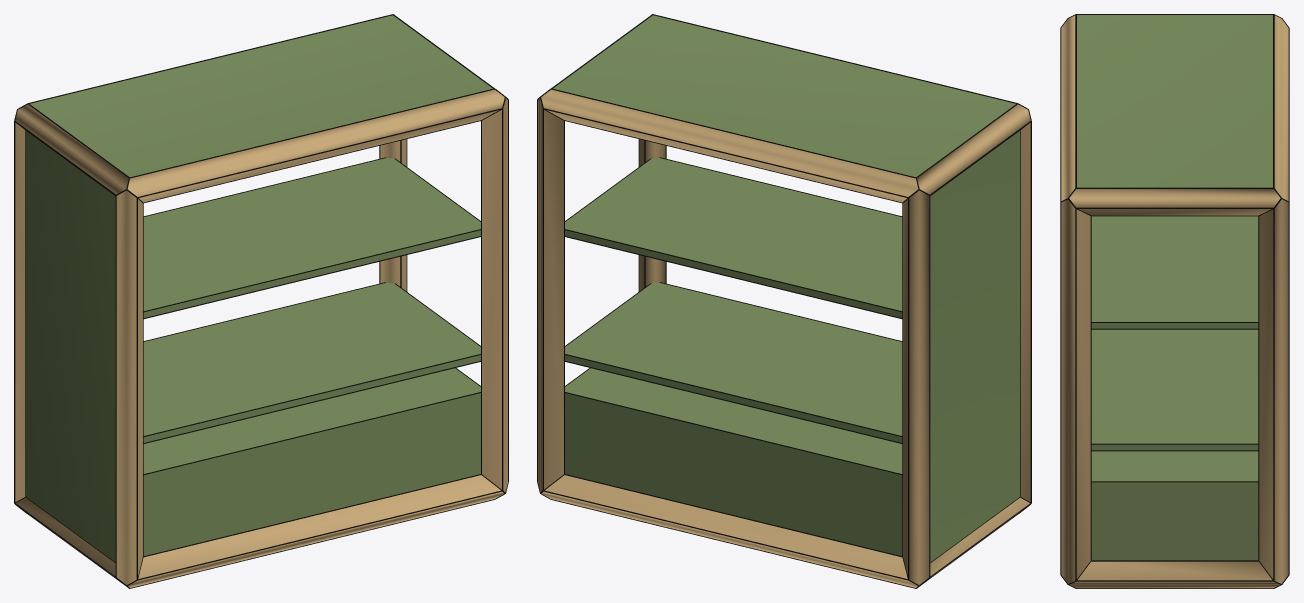
The model's file is servante-grande.glb.
3 renders of one model, left to right at view 1: azimuth 30°, elevation 25°; view 2: azimuth 150°, elevation 25°; view 3: azimuth 270°, elevation 25°, orthographic. The views are drawn at different scales.
Visible parts, largest first — view 1: mod-drawer-0, panneau-dessus_exterieur, panneau-joue1, mod-shelf-0, mod-shelf-1, arete-X2, arete-Z0, arete-X0, arete-Z1, arete-Z2, arete-Y2, arete-wire-X0 (+11 smaller); view 2: mod-drawer-0, panneau-dessus_exterieur, panneau-joue1, mod-shelf-0, mod-shelf-1, arete-X3, arete-Z2, arete-X1, arete-Z3, arete-Z0, arete-Y2, arete-wire-X1 (+11 smaller); view 3: panneau-dessus_exterieur, mod-shelf-0, mod-shelf-1, mod-drawer-0, arete-Z1, arete-Z3, arete-Y1, arete-Y3, arete-X2, arete-X3, arete-wire-Z1, arete-wire-Z3 (+8 smaller).
Boxes of the visible parts, x1=… form: mod-drawer-0: x1=143, y1=368, x2=480, y2=555; panneau-dessus_exterieur: x1=30, y1=15, x2=492, y2=177; panneau-joue1: x1=26, y1=131, x2=115, y2=562; mod-shelf-0: x1=143, y1=282, x2=480, y2=442; mod-shelf-1: x1=143, y1=158, x2=480, y2=317; arete-X2: x1=127, y1=89, x2=504, y2=202; arete-Z0: x1=116, y1=190, x2=142, y2=584; arete-X0: x1=128, y1=475, x2=504, y2=587; arete-Z1: x1=482, y1=98, x2=507, y2=492; arete-Z2: x1=15, y1=122, x2=25, y2=501; arete-Y2: x1=15, y1=104, x2=128, y2=194; arete-wire-X0: x1=126, y1=474, x2=505, y2=588; mod-drawer-0: x1=565, y1=368, x2=902, y2=555; panneau-dessus_exterieur: x1=553, y1=15, x2=1015, y2=177; panneau-joue1: x1=930, y1=131, x2=1019, y2=562; mod-shelf-0: x1=565, y1=282, x2=902, y2=442; mod-shelf-1: x1=565, y1=158, x2=902, y2=317; arete-X3: x1=541, y1=89, x2=918, y2=202; arete-Z2: x1=903, y1=190, x2=929, y2=584; arete-X1: x1=541, y1=475, x2=917, y2=587; arete-Z3: x1=538, y1=98, x2=563, y2=492; arete-Z0: x1=1020, y1=122, x2=1030, y2=501; arete-Y2: x1=917, y1=104, x2=1030, y2=194; arete-wire-X1: x1=540, y1=474, x2=918, y2=588; panneau-dessus_exterieur: x1=1077, y1=15, x2=1272, y2=187; mod-shelf-0: x1=1091, y1=329, x2=1258, y2=450; mod-shelf-1: x1=1091, y1=216, x2=1258, y2=328; mod-drawer-0: x1=1091, y1=451, x2=1258, y2=560; arete-Z1: x1=1061, y1=199, x2=1090, y2=583; arete-Z3: x1=1259, y1=199, x2=1288, y2=583; arete-Y1: x1=1069, y1=561, x2=1280, y2=588; arete-Y3: x1=1069, y1=189, x2=1280, y2=215; arete-X2: x1=1061, y1=15, x2=1075, y2=200; arete-X3: x1=1274, y1=15, x2=1288, y2=200; arete-wire-Z1: x1=1060, y1=198, x2=1091, y2=581; arete-wire-Z3: x1=1258, y1=202, x2=1289, y2=581.
Bounding box in the file's own units: 0.8309 × 0.8309 × 0.4309.
